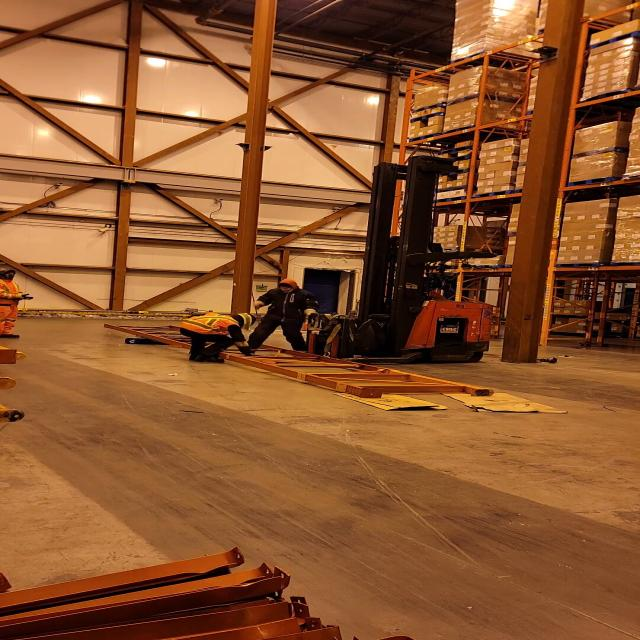forklift: (284, 160, 495, 366)
human: (246, 275, 320, 355), (180, 309, 254, 366), (0, 265, 33, 341)
objectofinterest: (98, 321, 498, 398), (440, 388, 573, 416), (330, 390, 454, 412), (115, 331, 182, 349)
